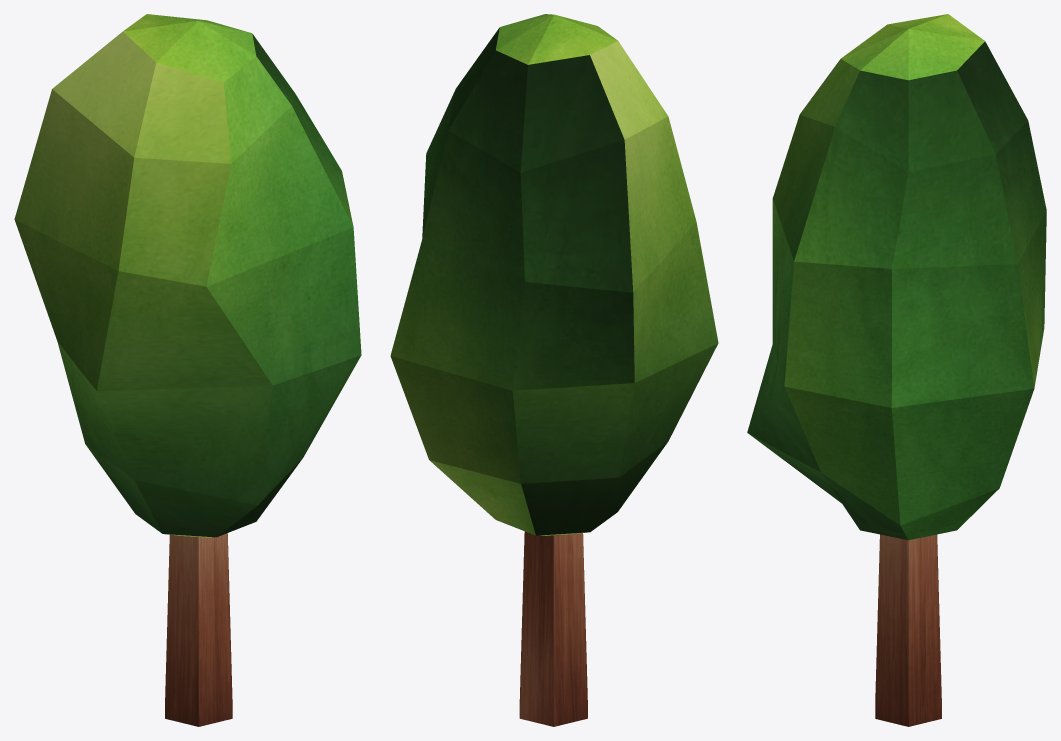
The model's file is Tree_v6.fbx.
The picture shows the model from 3 angles, left to right: view 1: azimuth 30°, elevation 25°; view 2: azimuth 150°, elevation 25°; view 3: azimuth 270°, elevation 25°; orthographic projection. The views are drawn at different scales.
Visible parts, largest first — view 1: Tree_v6; view 2: Tree_v6; view 3: Tree_v6.
Part boxes in pixels (x1,y1,x2,y2): Tree_v6: (14, 14, 361, 726); Tree_v6: (390, 14, 718, 726); Tree_v6: (747, 14, 1046, 726).
Bounding box in the file's own units: 2.14 × 5.26 × 2.1.
